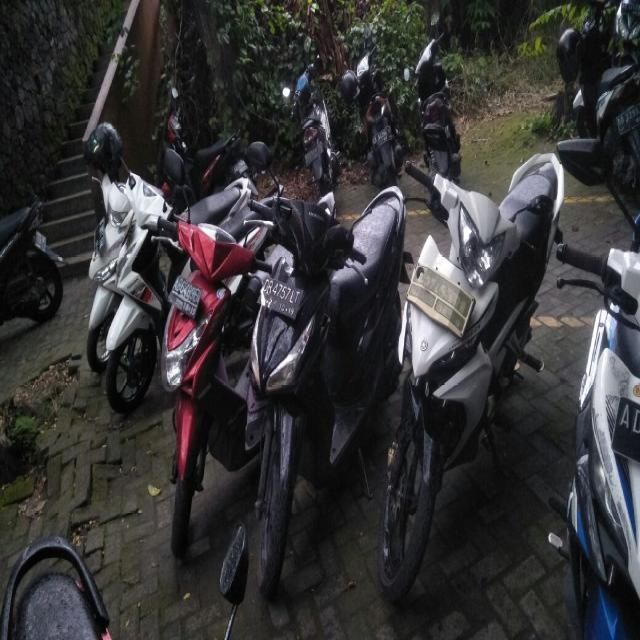plate: (261, 277, 300, 317), (166, 275, 201, 316)
